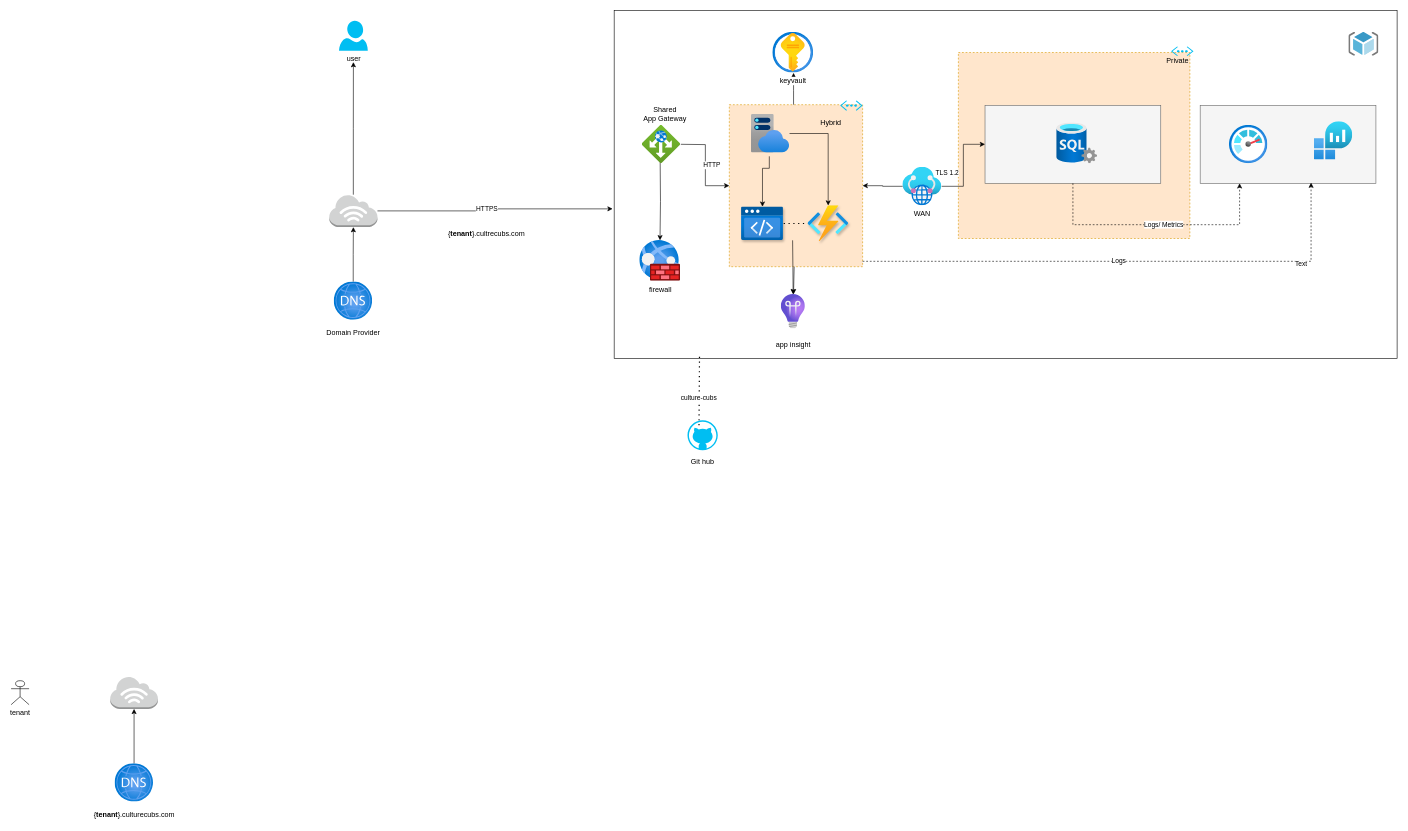
Some shapes in this 1408 by 831 pixel diagram are drawn without their labels. Here are the shapes that lost their labels. From the top down, the centre of each, then its label:
At point 1363,44: "Resource group".
At point 770,133: "app service plan".
At point 1076,142: "db-culturecubs".
